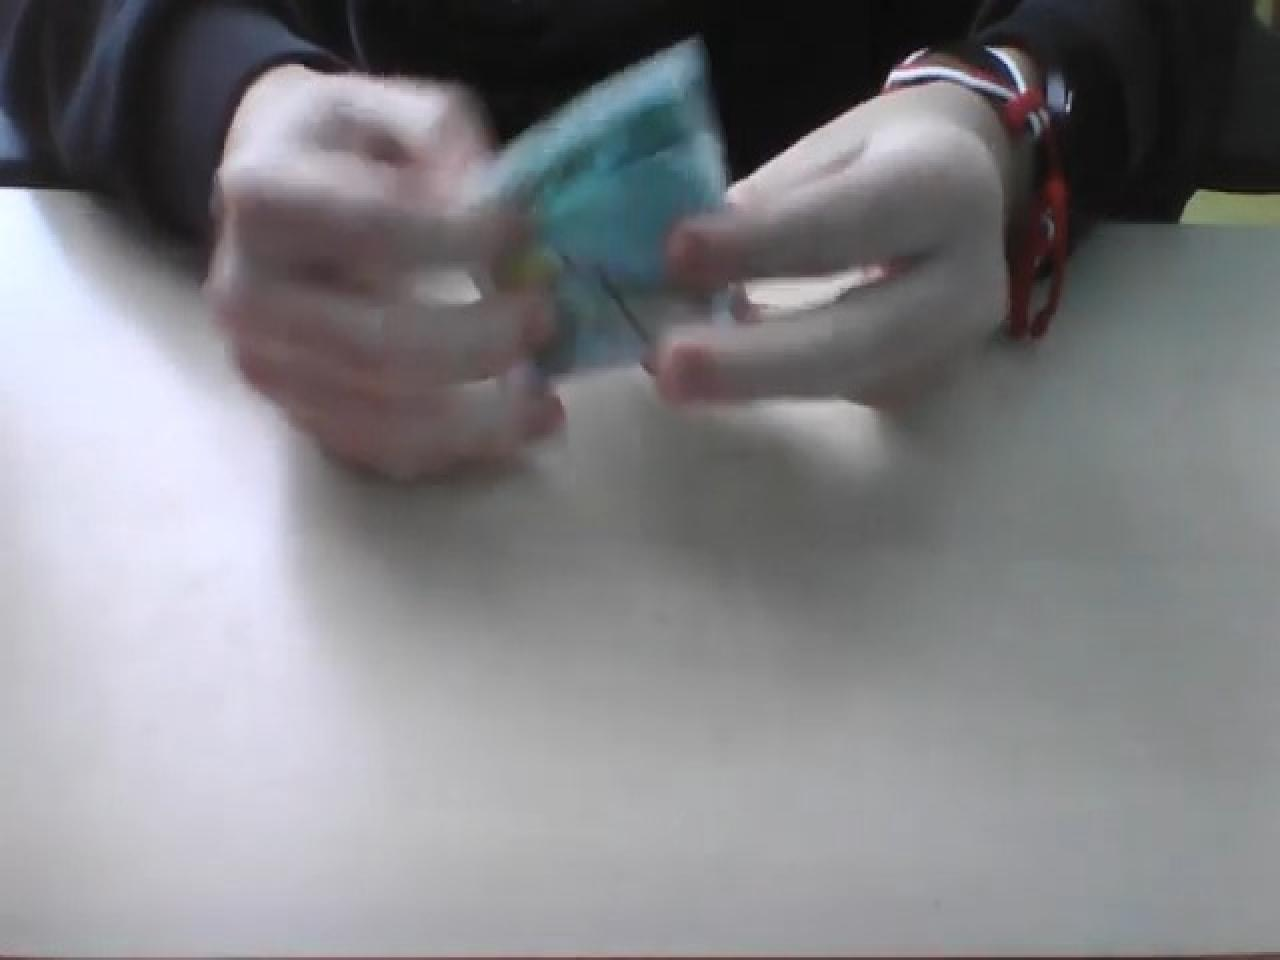100leva: (464, 31, 734, 381)
